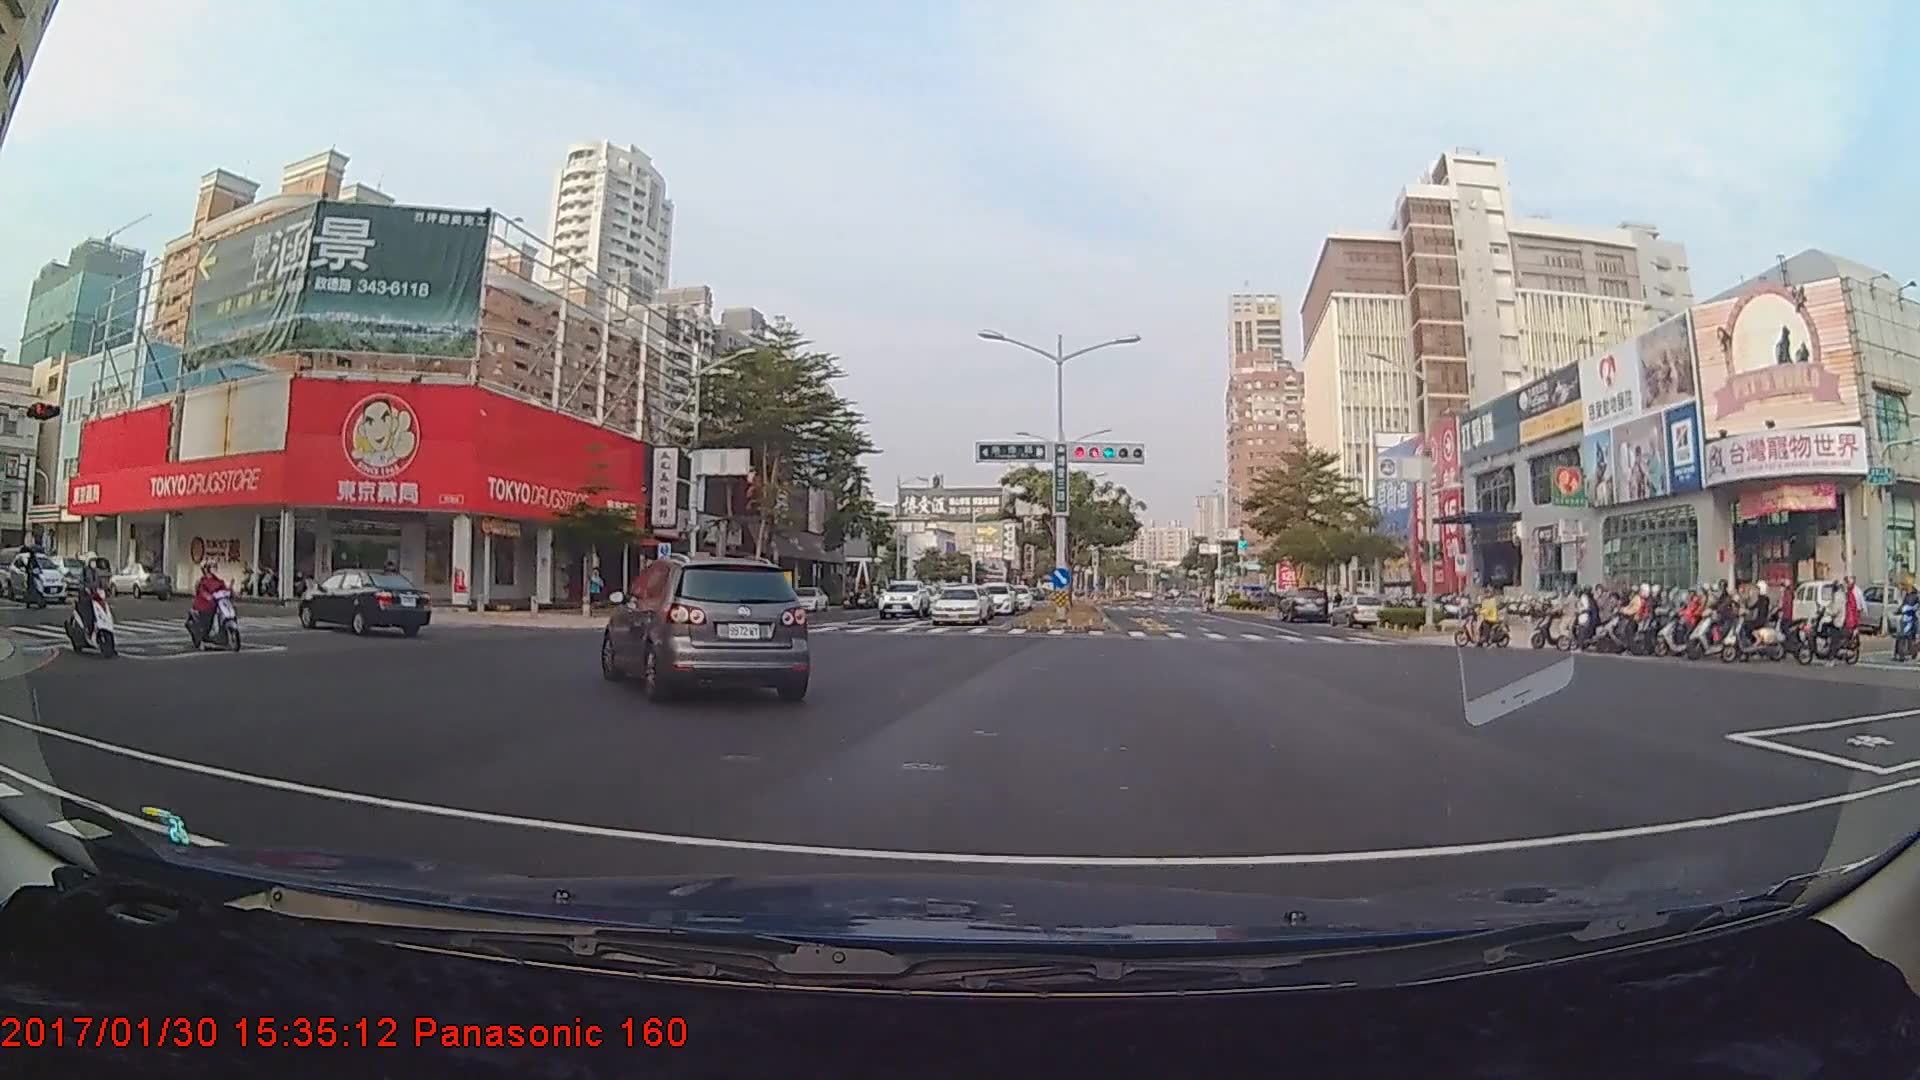rider: (62, 555, 122, 659), (1792, 578, 1861, 668), (182, 562, 245, 654), (1699, 584, 1770, 662), (1687, 584, 1748, 659), (1546, 594, 1619, 654), (1451, 585, 1513, 651), (1602, 586, 1658, 655), (1623, 591, 1669, 655)
vehicle: (599, 551, 810, 704), (299, 567, 432, 638), (6, 553, 66, 603), (929, 588, 990, 629), (39, 555, 98, 593), (874, 580, 930, 618), (1275, 585, 1326, 620), (974, 580, 1015, 616)
